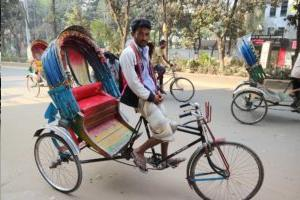Rickshaw: (29, 18, 263, 196), (231, 24, 298, 124), (20, 35, 53, 93), (99, 44, 123, 98)
